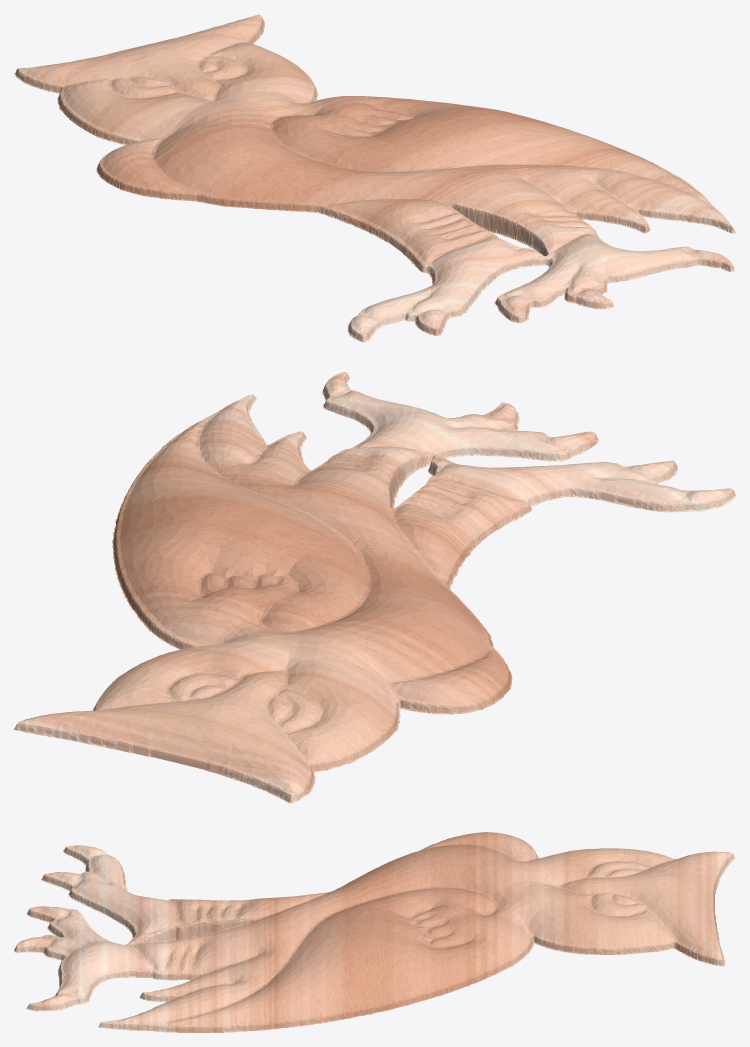
The model's file is owl01.glb.
3 renders of one model, top to bottom at view 1: azimuth 30°, elevation 25°; view 2: azimuth 150°, elevation 25°; view 3: azimuth 270°, elevation 25°, orthographic. The views are drawn at different scales.
Parts seen in each view (by area): view 1: base; view 2: base; view 3: base.
Part boxes in pixels (x1,y1,x2,y2): base: (14,14,735,342); base: (14,371,735,803); base: (14,832,735,1032).
Bounding box in the file's own units: 0.0758 × 0.0067 × 0.1188.
1 material, 1 textured.
